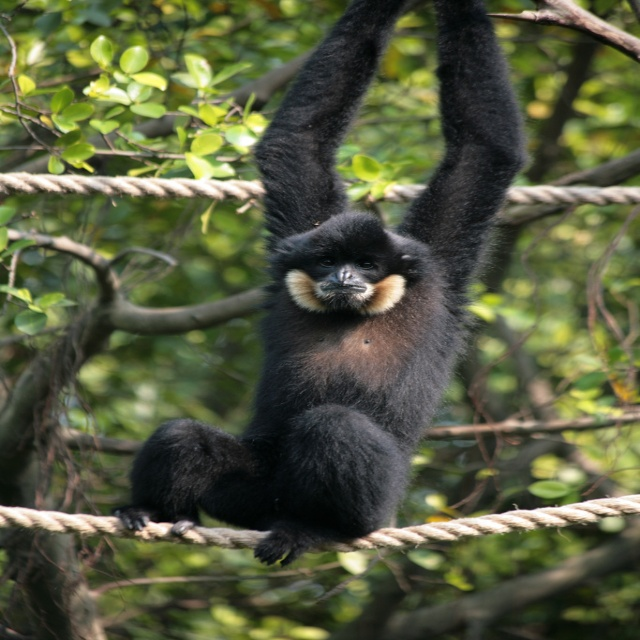Monkey: (111, 0, 534, 568)
